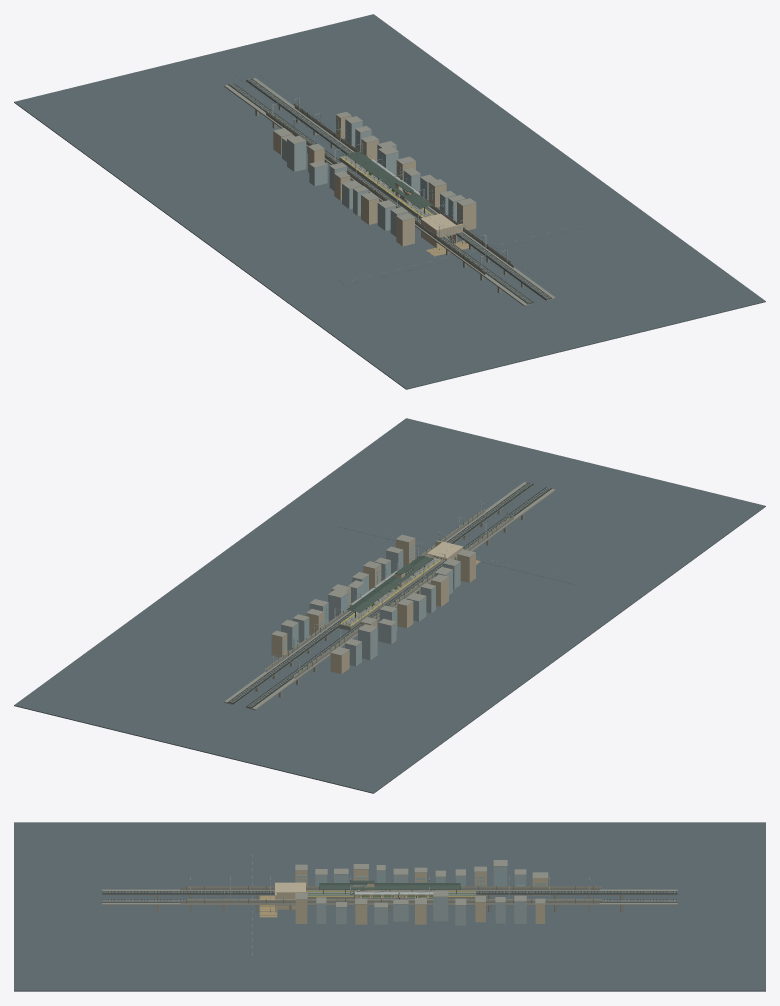
Rendered from Train_Station.glb.
3 renders of one model, top to bottom at view 1: azimuth 30°, elevation 25°; view 2: azimuth 150°, elevation 25°; view 3: azimuth 270°, elevation 25°, orthographic. The views are drawn at different scales.
Visible parts, largest first — view 1: Cell_0_0_Opaque, Cell_-1_0_Opaque, Cell_0_-6_Opaque, CanopyRoofGroup_Opaque, Cell_-2_-2_Opaque, Cell_-2_4_Opaque, Cell_1_1_Opaque; view 2: Cell_0_0_Opaque, Cell_-1_0_Opaque, Cell_0_-6_Opaque, CanopyRoofGroup_Opaque, Cell_-2_4_Opaque, Cell_-2_1_Opaque, Cell_1_4_Opaque, Cell_-2_-2_Opaque; view 3: Cell_0_0_Opaque, Cell_-1_0_Opaque, Cell_0_-6_Opaque, CanopyRoofGroup_Opaque, Cell_1_1_Opaque, Cell_1_4_Opaque, Cell_-2_4_Opaque, Cell_1_-2_Opaque, Cell_-2_-2_Opaque, Cell_0_-5_Opaque, Cell_1_-4_Opaque, Cell_1_0_Opaque (+4 smaller).
Boxes of the visible parts, x1=… form: Cell_0_0_Opaque: x1=14, y1=14, x2=765, y2=389; Cell_-1_0_Opaque: x1=224, y1=83, x2=533, y2=306; Cell_0_-6_Opaque: x1=338, y1=221, x2=584, y2=285; CanopyRoofGroup_Opaque: x1=347, y1=151, x2=456, y2=230; Cell_-2_-2_Opaque: x1=361, y1=192, x2=396, y2=230; Cell_-2_4_Opaque: x1=282, y1=135, x2=306, y2=171; Cell_1_1_Opaque: x1=378, y1=146, x2=415, y2=180; Cell_0_0_Opaque: x1=14, y1=418, x2=765, y2=793; Cell_-1_0_Opaque: x1=246, y1=487, x2=555, y2=710; Cell_0_-6_Opaque: x1=338, y1=517, x2=584, y2=585; CanopyRoofGroup_Opaque: x1=346, y1=541, x2=463, y2=612; Cell_-2_4_Opaque: x1=344, y1=624, x2=377, y2=666; Cell_-2_1_Opaque: x1=379, y1=599, x2=413, y2=630; Cell_1_4_Opaque: x1=281, y1=614, x2=309, y2=650; Cell_-2_-2_Opaque: x1=431, y1=567, x2=452, y2=606; Cell_0_0_Opaque: x1=14, y1=822, x2=765, y2=991; Cell_-1_0_Opaque: x1=102, y1=883, x2=677, y2=895; Cell_0_-6_Opaque: x1=230, y1=850, x2=260, y2=962; CanopyRoofGroup_Opaque: x1=275, y1=880, x2=460, y2=892; Cell_1_1_Opaque: x1=415, y1=890, x2=448, y2=924; Cell_1_4_Opaque: x1=495, y1=895, x2=526, y2=923; Cell_-2_4_Opaque: x1=493, y1=860, x2=526, y2=887; Cell_1_-2_Opaque: x1=336, y1=898, x2=367, y2=924; Cell_-2_-2_Opaque: x1=334, y1=864, x2=368, y2=886; Cell_0_-5_Opaque: x1=256, y1=887, x2=283, y2=917; Cell_1_-4_Opaque: x1=295, y1=893, x2=307, y2=923; Cell_1_0_Opaque: x1=393, y1=899, x2=408, y2=921.
Bounding box in the file's own units: 180 × 13.88 × 340.
